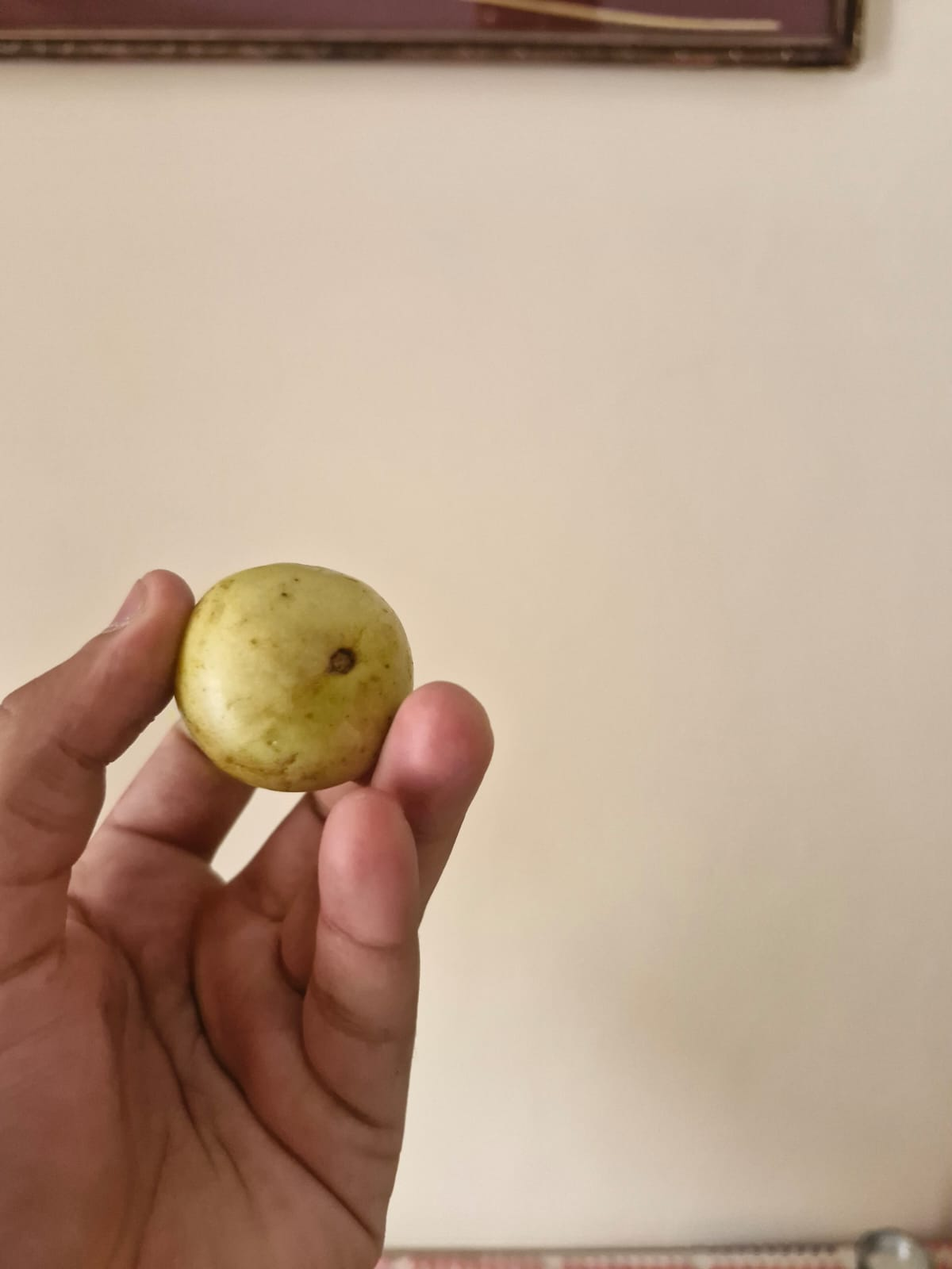guava: (97, 203, 708, 1198)
